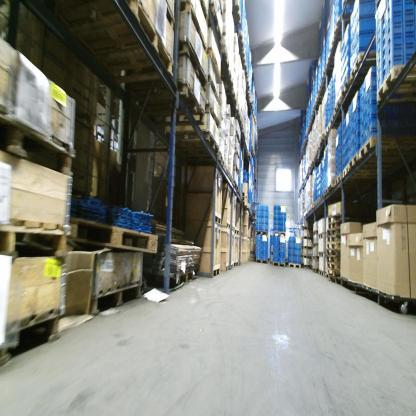pallets: (302, 264, 415, 317), (0, 112, 80, 184), (171, 76, 226, 167), (0, 302, 69, 373), (312, 137, 378, 201), (66, 216, 160, 254), (0, 219, 68, 256), (87, 279, 146, 317), (371, 64, 416, 105), (254, 257, 303, 269)
